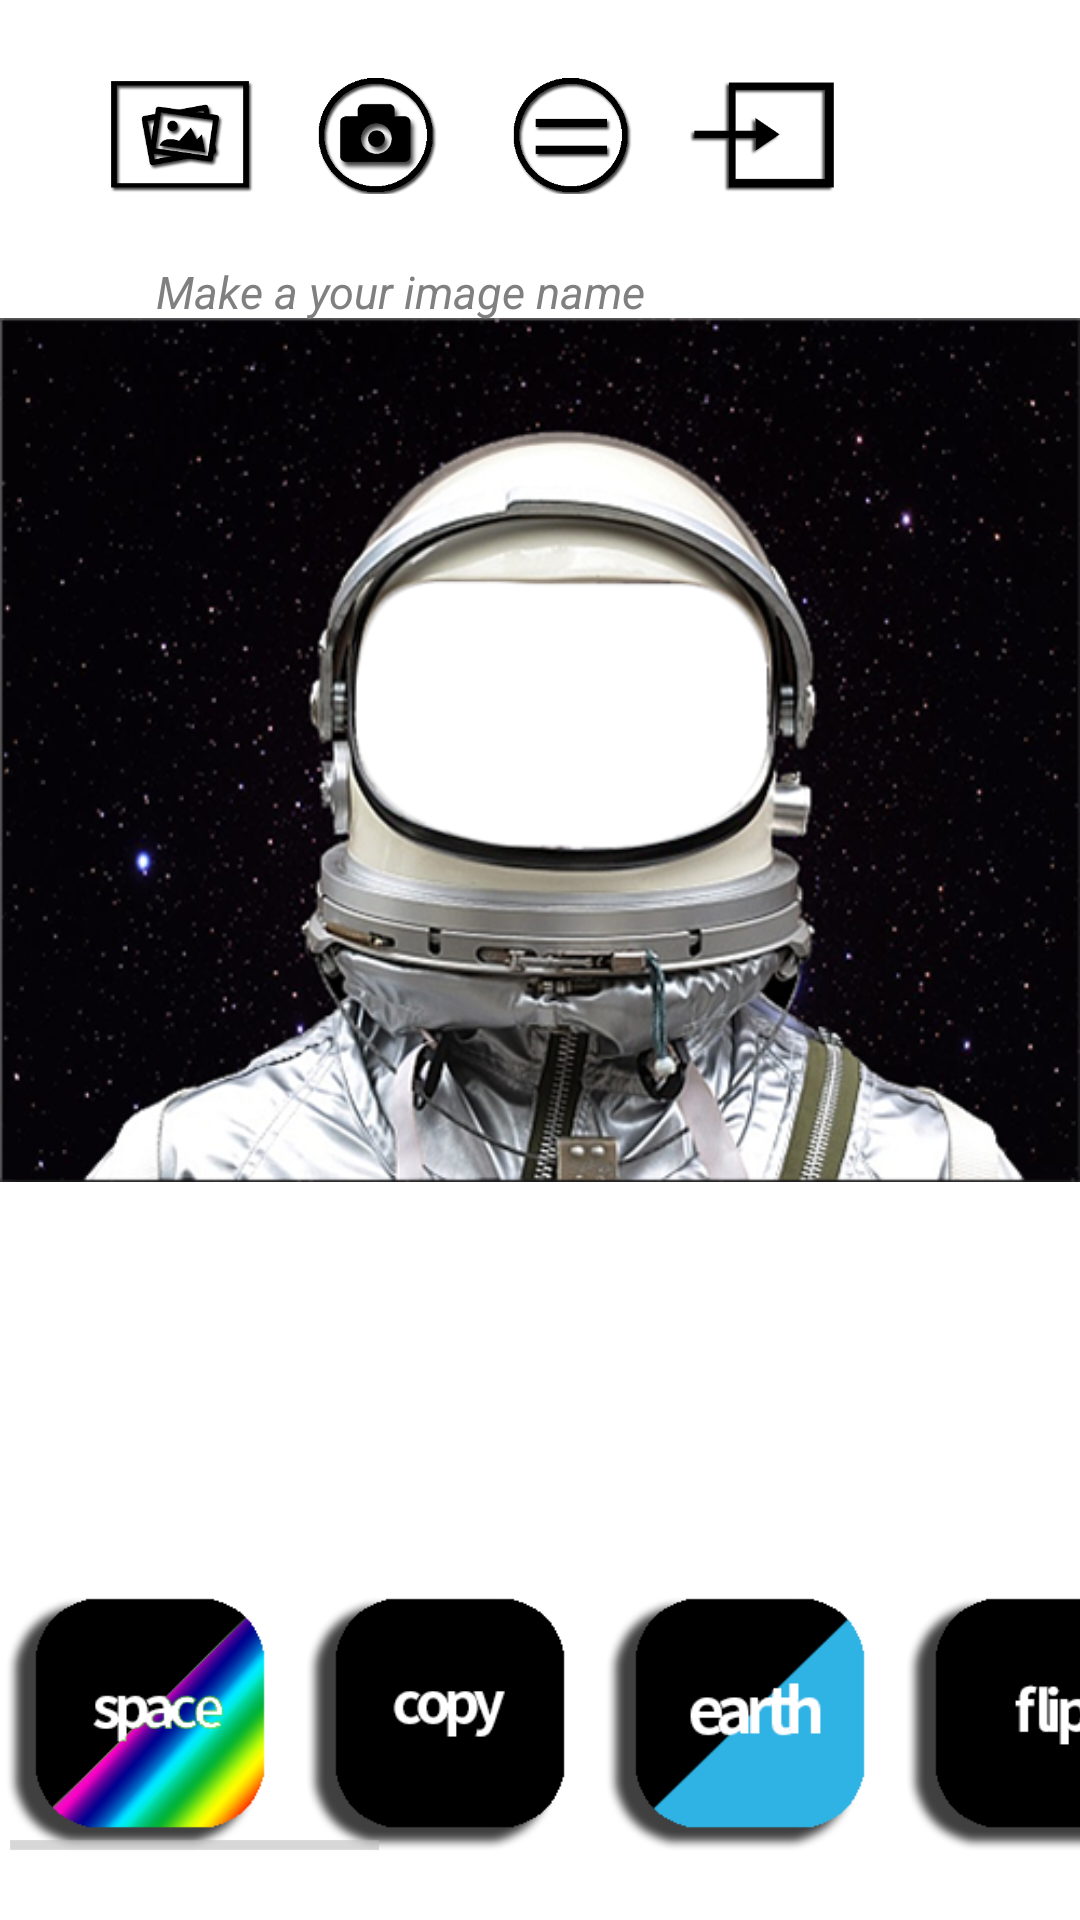

Where icons sit on this 1080px×1920px app screen, as (x1=x1, y1=y1, x2=x2, y2=y2):
phonegallery: (x1=111, y1=81, x2=252, y2=192)
save: (x1=690, y1=82, x2=834, y2=191)
takeyoursnow: (x1=318, y1=78, x2=436, y2=194)
